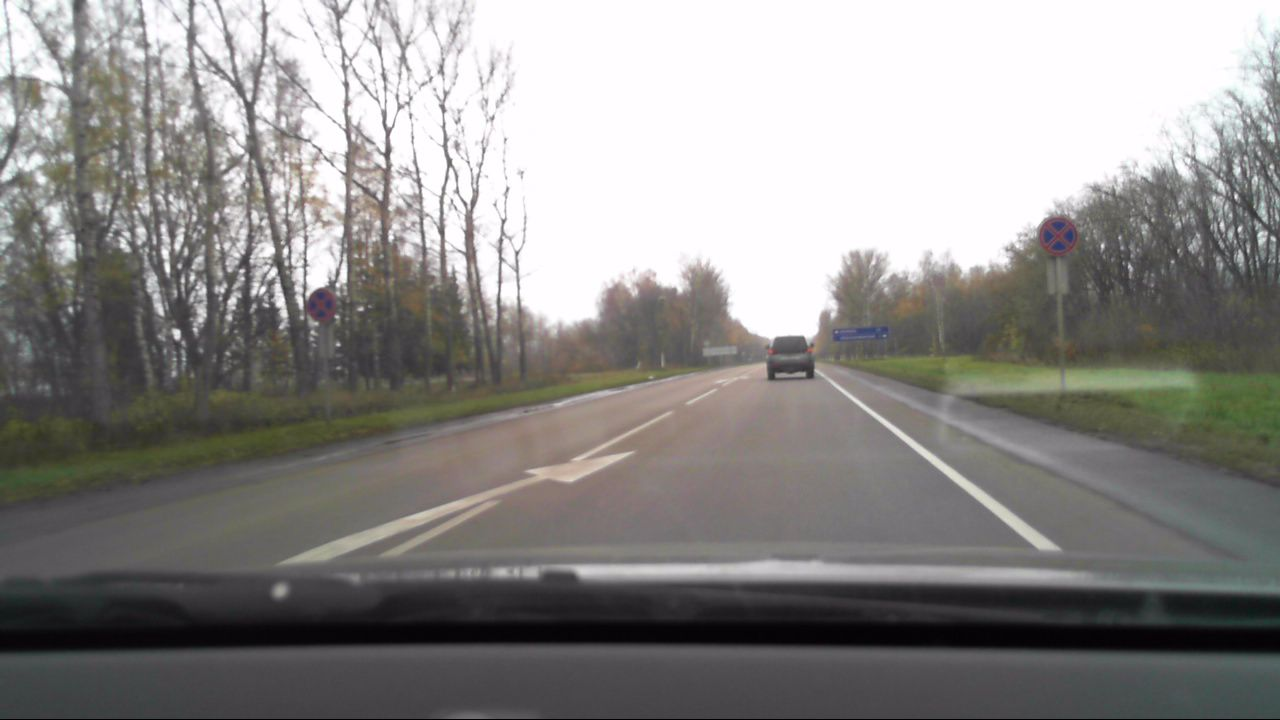No Parking: (305, 286, 340, 323)
